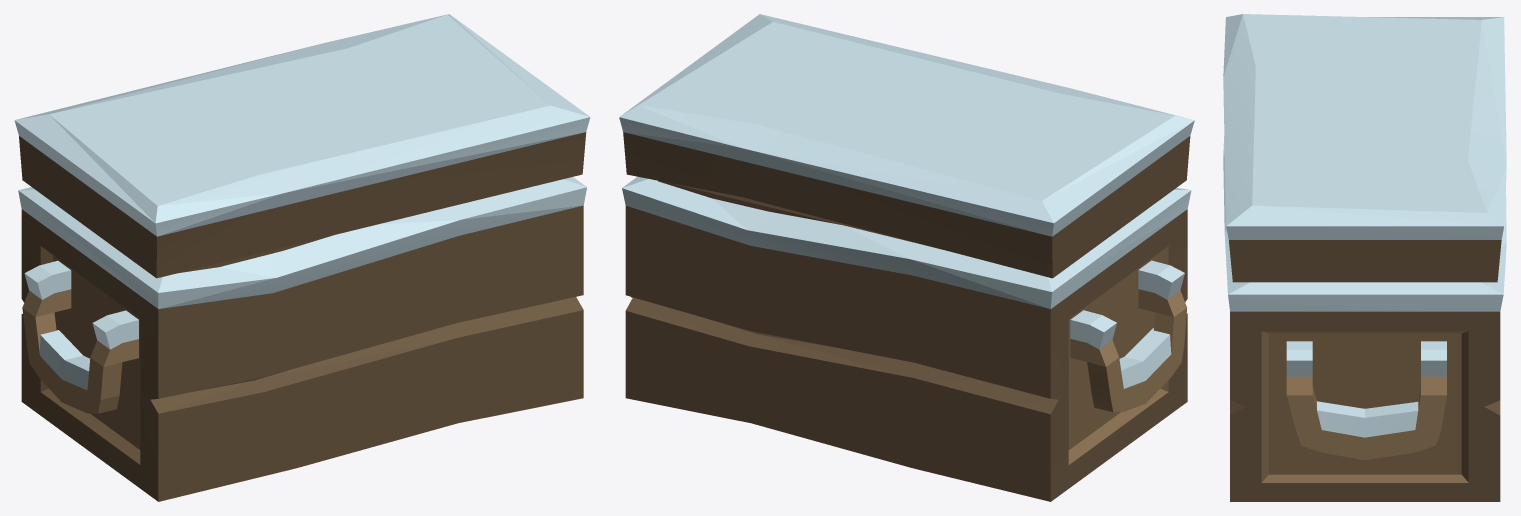
File: Caja_Cerrada.glb
3 renders of one model, left to right at view 1: azimuth 30°, elevation 25°; view 2: azimuth 150°, elevation 25°; view 3: azimuth 270°, elevation 25°, orthographic.
Parts seen in each view (by area): view 1: SM_Prop_Crate_Base_01_Snow, SM_Prop_Crate_Lid_01_Snow; view 2: SM_Prop_Crate_Base_01_Snow, SM_Prop_Crate_Lid_01_Snow; view 3: SM_Prop_Crate_Lid_01_Snow, SM_Prop_Crate_Base_01_Snow.
Part boxes in pixels (x1,y1,x2,y2): SM_Prop_Crate_Base_01_Snow: [18, 177, 586, 501]; SM_Prop_Crate_Lid_01_Snow: [14, 14, 590, 278]; SM_Prop_Crate_Base_01_Snow: [622, 176, 1191, 501]; SM_Prop_Crate_Lid_01_Snow: [619, 14, 1194, 278]; SM_Prop_Crate_Lid_01_Snow: [1223, 14, 1506, 282]; SM_Prop_Crate_Base_01_Snow: [1223, 136, 1506, 501].
Size of the model in its own units: 1.33 by 0.766 by 0.6881.
2 materials, 2 textured.
